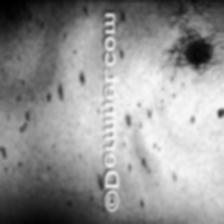Non-Cancerous Skin Condition: (124, 54, 190, 195), (24, 28, 100, 124), (0, 91, 20, 176), (214, 94, 224, 122)
